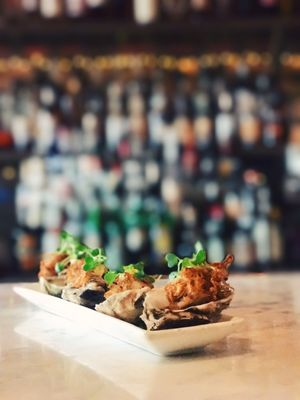curry: (1, 277, 297, 400)
